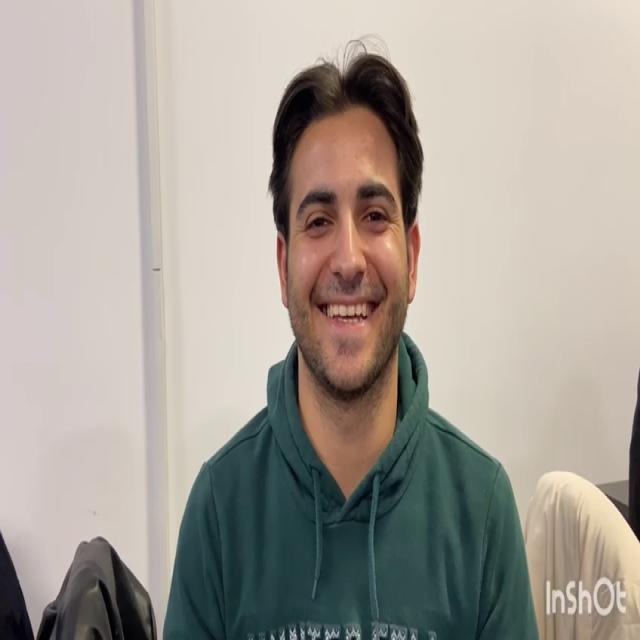happy: (287, 105, 408, 397)
